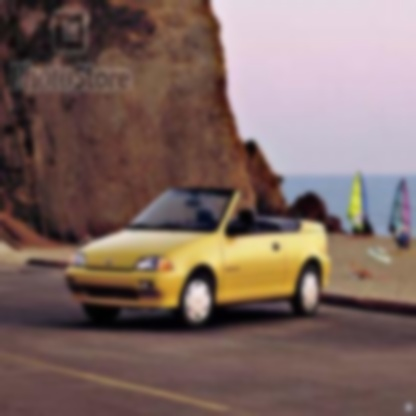Vehicle: (67, 189, 332, 330)
